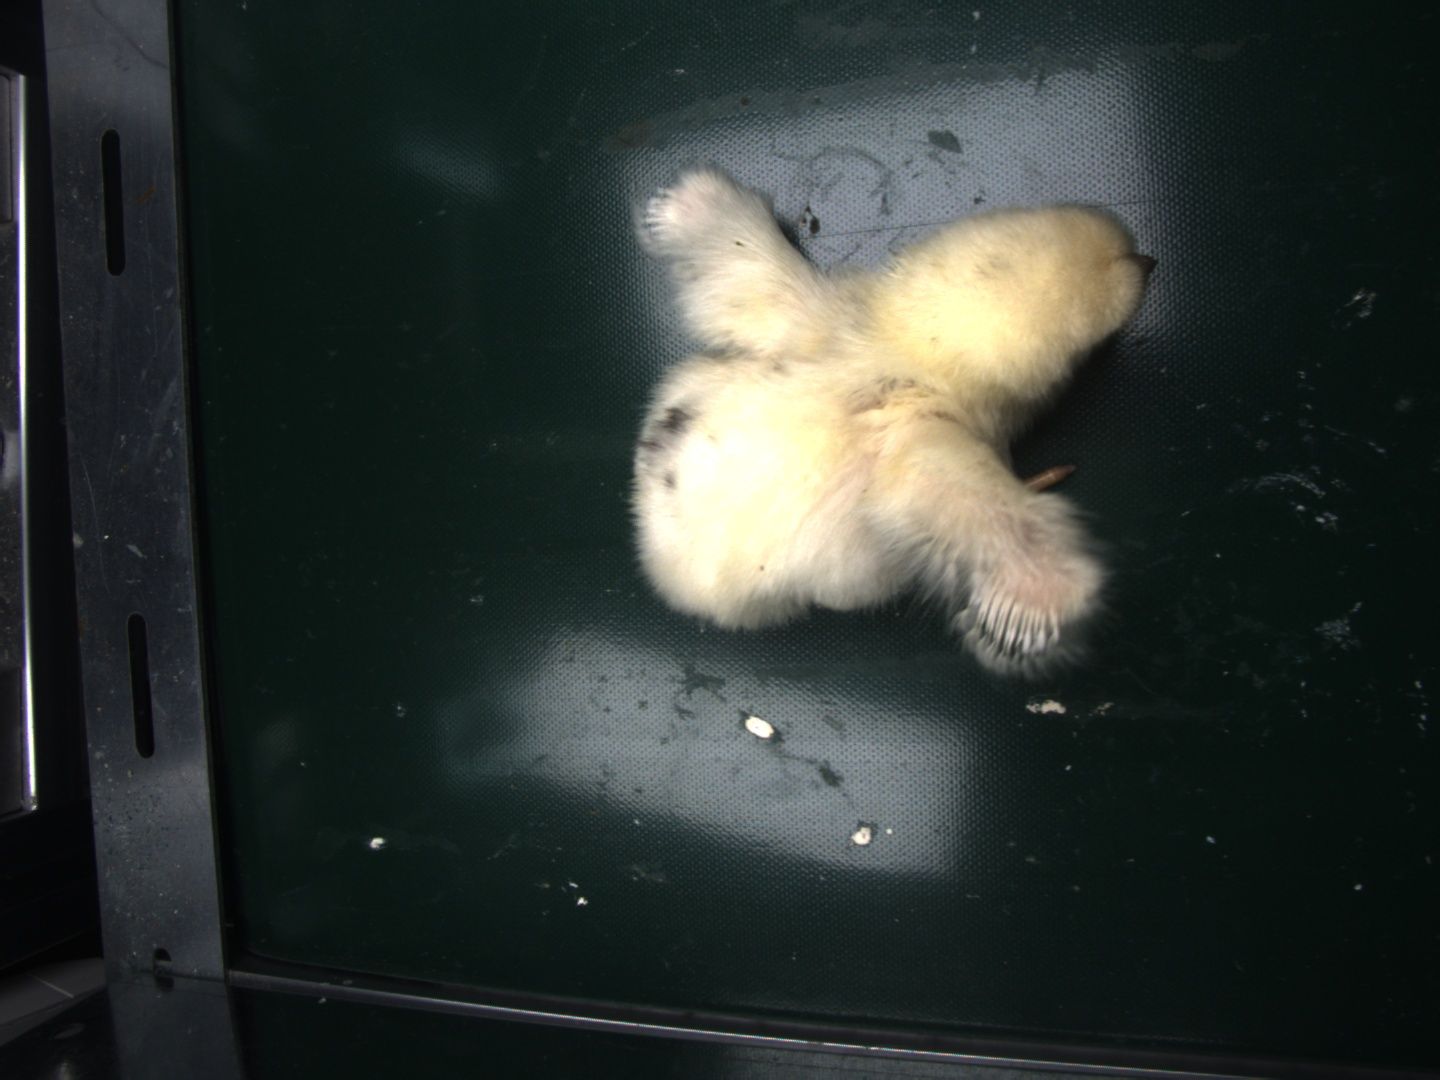male: (975, 582, 1059, 661)
